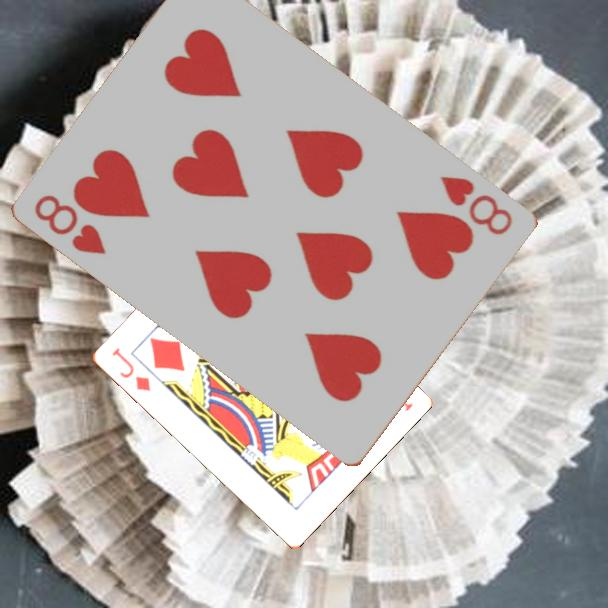d11: (108, 344, 153, 394)
h08: (31, 190, 110, 258), (437, 172, 516, 238)
